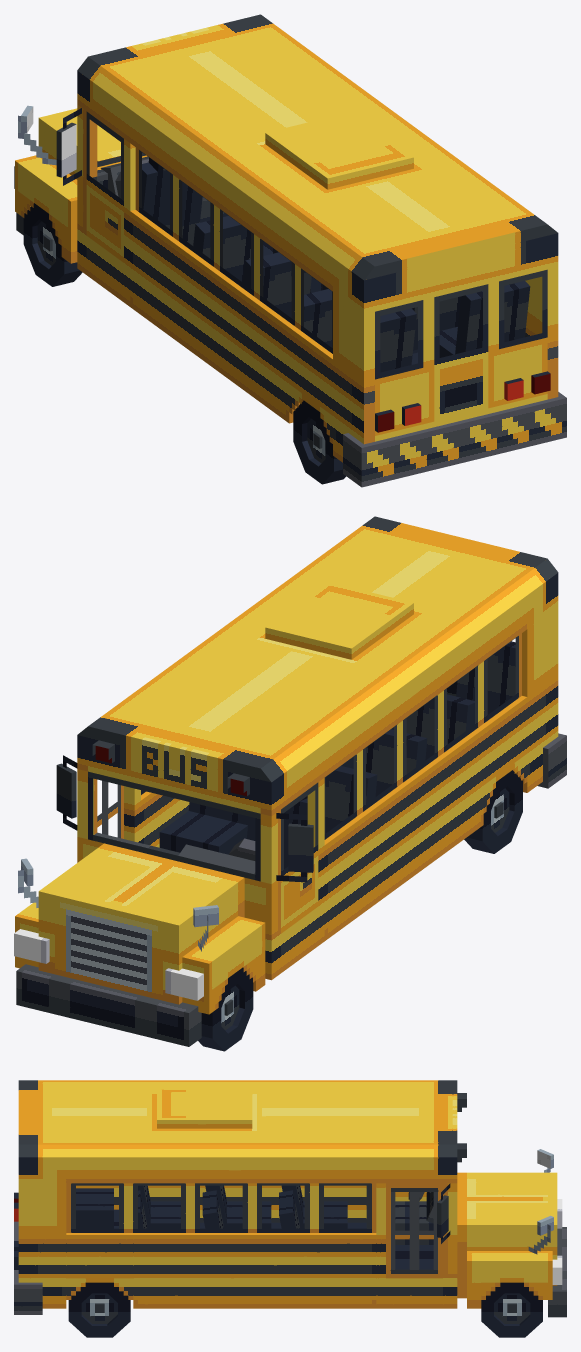
The model's file is school-bus.gltf.
3 renders of one model, top to bottom at view 1: azimuth 30°, elevation 25°; view 2: azimuth 150°, elevation 25°; view 3: azimuth 270°, elevation 25°, orthographic. The views are drawn at different scales.
Visible parts, largest first — view 1: cube (×37), tube (×2); view 2: cube (×36), tube (×2); view 3: cube (×35), tube (×2).
Boxes of the visible parts, x1=… form: cube (×37): x1=15, y1=14, x2=566, y2=487; tube (×2): x1=23, y1=203, x2=346, y2=484; cube (×36): x1=14, y1=516, x2=566, y2=1046; tube (×2): x1=198, y1=770, x2=522, y2=1051; cube (×35): x1=14, y1=1080, x2=566, y2=1323; tube (×2): x1=68, y1=1282, x2=542, y2=1337.
Bounding box in the file's own units: 2.97 × 2.88 × 7.25.
1 material, 1 textured.
